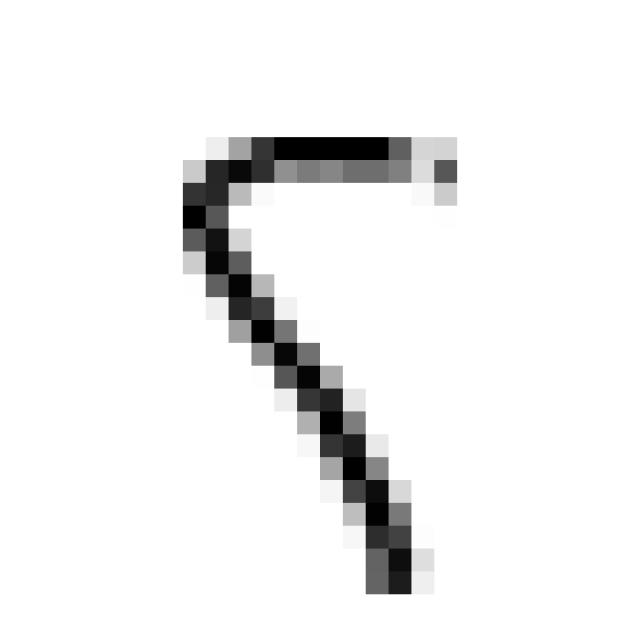2 -two-: (158, 112, 491, 616)
